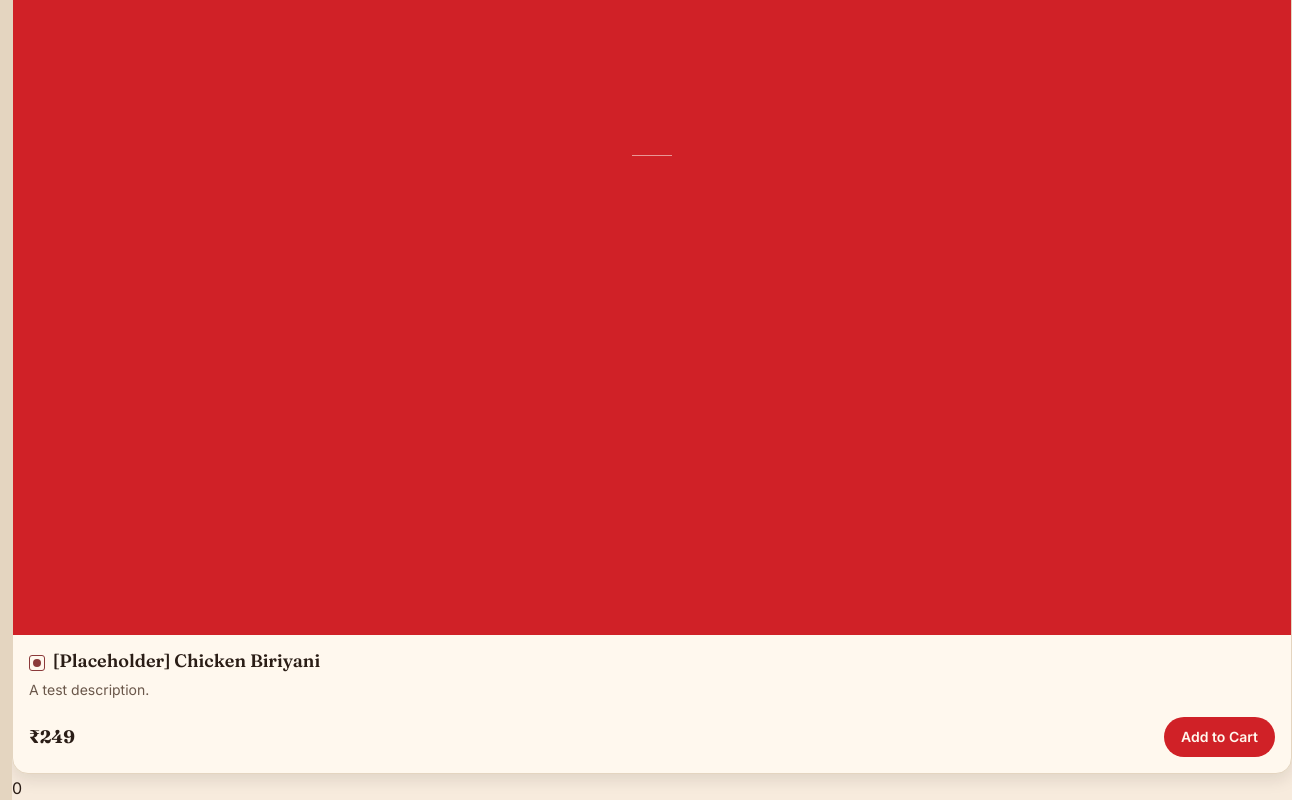
FoodCard › clicking Add to Cart adds exactly one of the item to the cart
(page scrolled)
Click the button "Add to Cart" at (1220, 737), box x1=1164 y1=717 x2=1275 y2=757
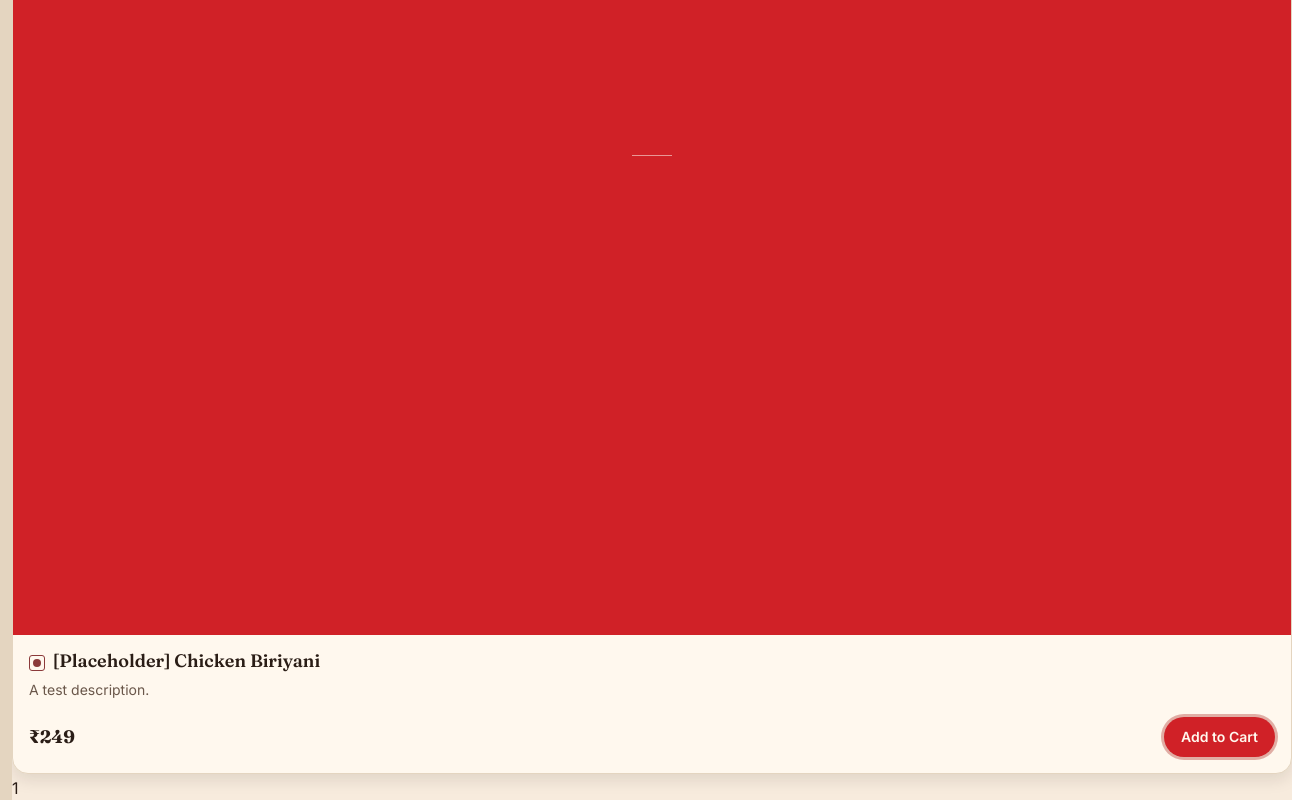
expect the text with test id "cart-count" reads "1": met, box x1=12 y1=778 x2=18 y2=798
